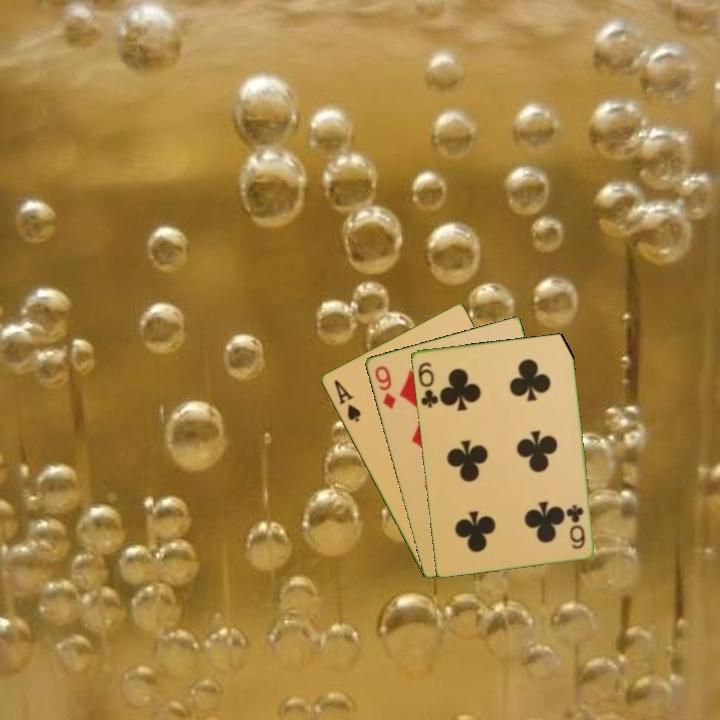6c: (414, 359, 441, 410), (564, 501, 588, 552)
9d: (371, 362, 398, 412)
As: (330, 376, 363, 425)
